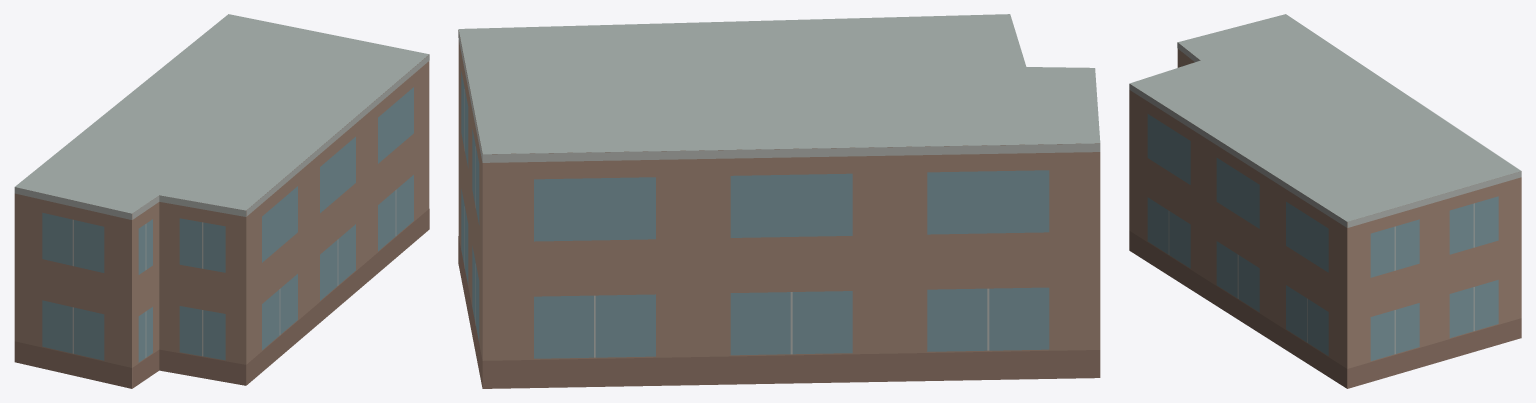
Rendered from survey-upis-32748175.glb.
The picture shows the model from 3 angles, left to right: view 1: azimuth 30°, elevation 25°; view 2: azimuth 150°, elevation 25°; view 3: azimuth 270°, elevation 25°; orthographic projection. The views are drawn at different scales.
Visible parts, largest first — view 1: survey-upis-32748175.tmp; view 2: survey-upis-32748175.tmp; view 3: survey-upis-32748175.tmp.
Part boxes in pixels (bbox=[...]): survey-upis-32748175.tmp: bbox=[14, 14, 429, 388]; survey-upis-32748175.tmp: bbox=[458, 14, 1100, 388]; survey-upis-32748175.tmp: bbox=[1129, 14, 1521, 388].
Size of the model in its own units: 17.63 by 6.6 by 14.06.
